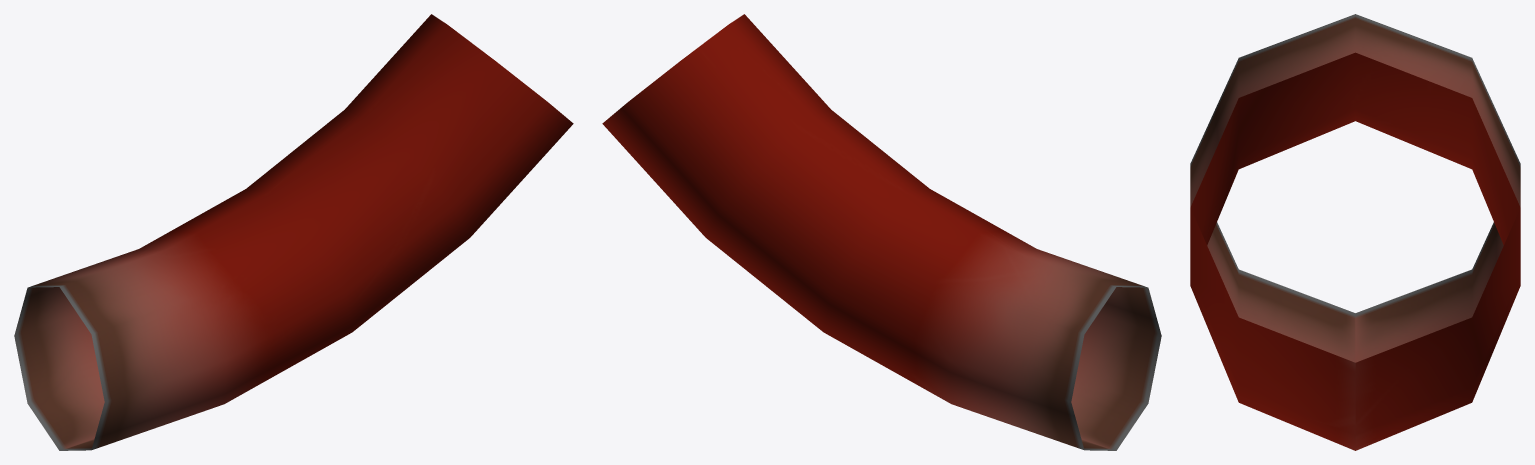
The model's file is pipe01_crn_48a_low.fbx.
The picture shows the model from 3 angles, left to right: view 1: azimuth 30°, elevation 25°; view 2: azimuth 150°, elevation 25°; view 3: azimuth 270°, elevation 25°; orthographic projection. The views are drawn at different scales.
Parts seen in each view (by area): view 1: pipe01_crn_48a_low; view 2: pipe01_crn_48a_low; view 3: pipe01_crn_48a_low.
Part boxes in pixels (<box>): pipe01_crn_48a_low: <box>14,14,573,450</box>; pipe01_crn_48a_low: <box>602,14,1161,450</box>; pipe01_crn_48a_low: <box>1190,14,1520,450</box>.
Bounding box in the file's own units: 38.18 × 24.3 × 12.
